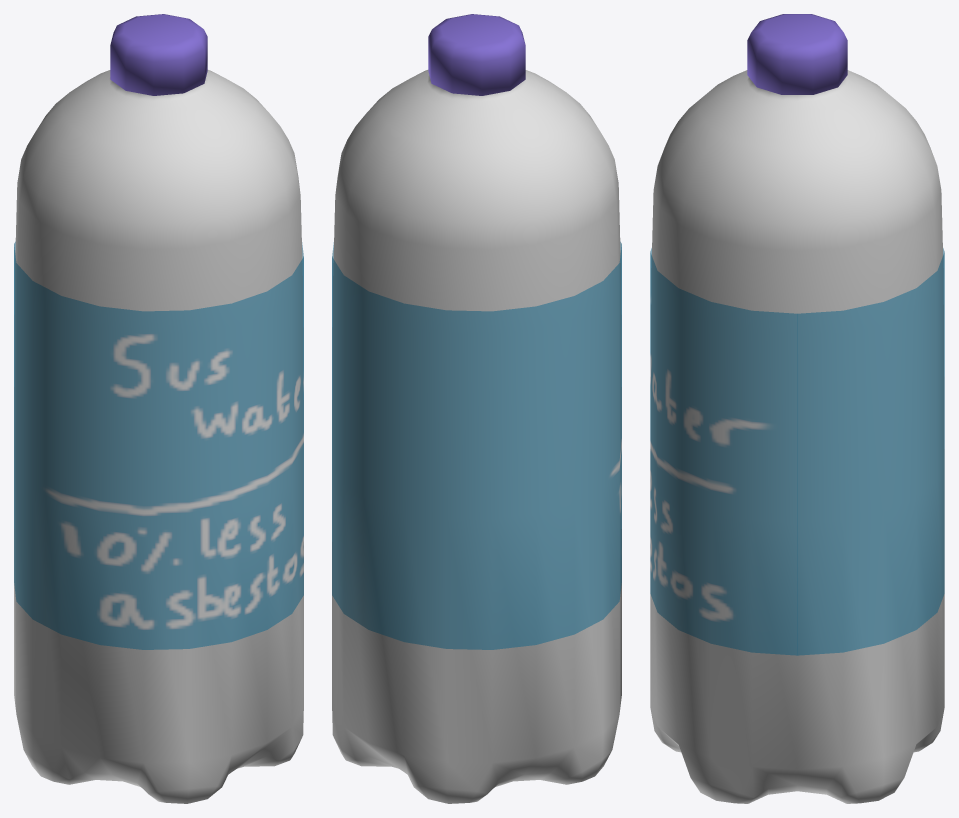
File: water_bottle.glb
3 views of the same model, side by side, from view 1: azimuth 30°, elevation 25°; view 2: azimuth 150°, elevation 25°; view 3: azimuth 270°, elevation 25° (orthographic).
Parts seen in each view (by area): view 1: Bottle, BottleLabel, BottleLid; view 2: Bottle, BottleLabel, BottleLid; view 3: Bottle, BottleLabel, BottleLid.
Part boxes in pixels (x1,y1,x2,y2): Bottle: (14,70,303,803); BottleLabel: (14,242,303,649); BottleLid: (110,14,207,95); Bottle: (332,70,621,803); BottleLabel: (332,242,621,649); BottleLid: (428,14,525,95); Bottle: (650,70,944,803); BottleLabel: (650,248,944,655); BottleLid: (747,14,847,94).
Bounding box in the file's own units: 0.0936 × 0.257 × 0.0936.
3 materials, 1 textured.
